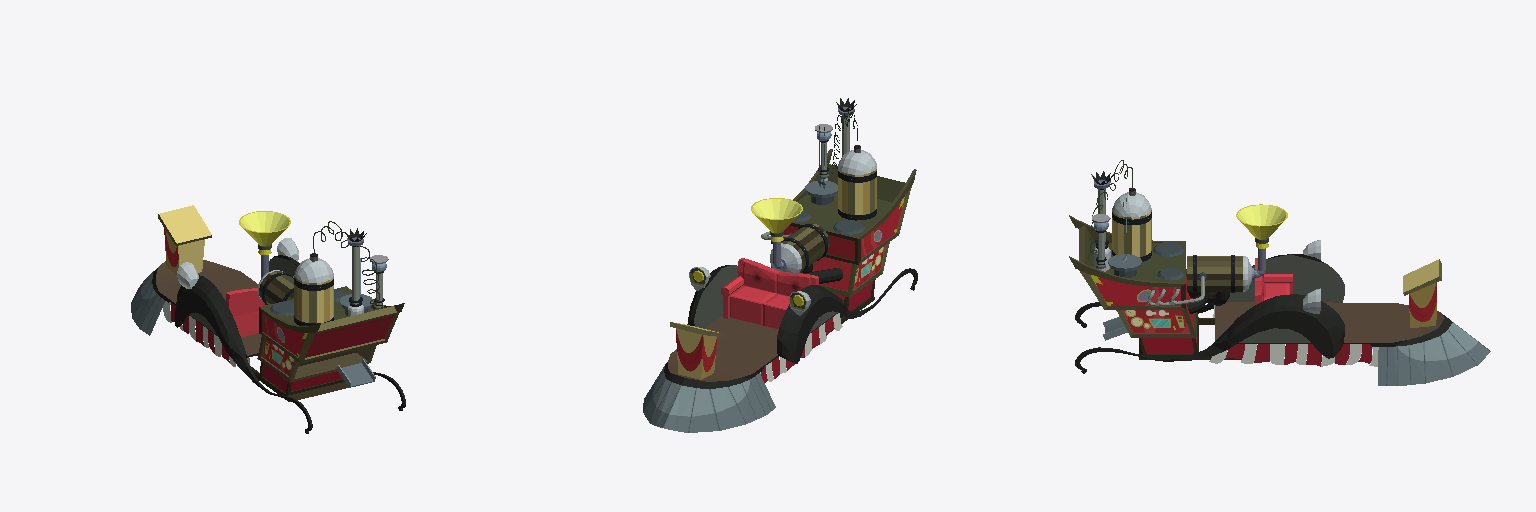
The picture shows the model from 3 angles: view 1: azimuth 30°, elevation 25°; view 2: azimuth 150°, elevation 25°; view 3: azimuth 270°, elevation 25°; orthographic projection.
Visible parts, largest first — view 1: SSCS6k_idle_Cube.001, SSCS6k_TSP_Cube.003; view 2: SSCS6k_idle_Cube.001, SSCS6k_TSP_Cube.003; view 3: SSCS6k_idle_Cube.001, SSCS6k_TSP_Cube.003.
Boxes of the visible parts, <box> form: SSCS6k_idle_Cube.001: <box>131,205,405,433</box>; SSCS6k_TSP_Cube.003: <box>163,221,382,366</box>; SSCS6k_idle_Cube.001: <box>643,98,917,432</box>; SSCS6k_TSP_Cube.003: <box>760,105,857,382</box>; SSCS6k_idle_Cube.001: <box>1069,171,1490,385</box>; SSCS6k_TSP_Cube.003: <box>1088,160,1378,366</box>.
Size of the model in its own units: 3.46 by 5.73 by 10.69.
Materials: 3 (1 with a texture image).